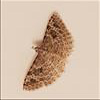Alucitidae: (18, 7, 74, 89)
moth: (20, 9, 76, 91)
